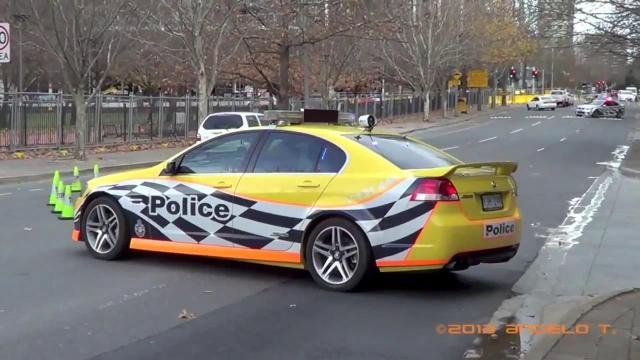police: (78, 124, 524, 278)
